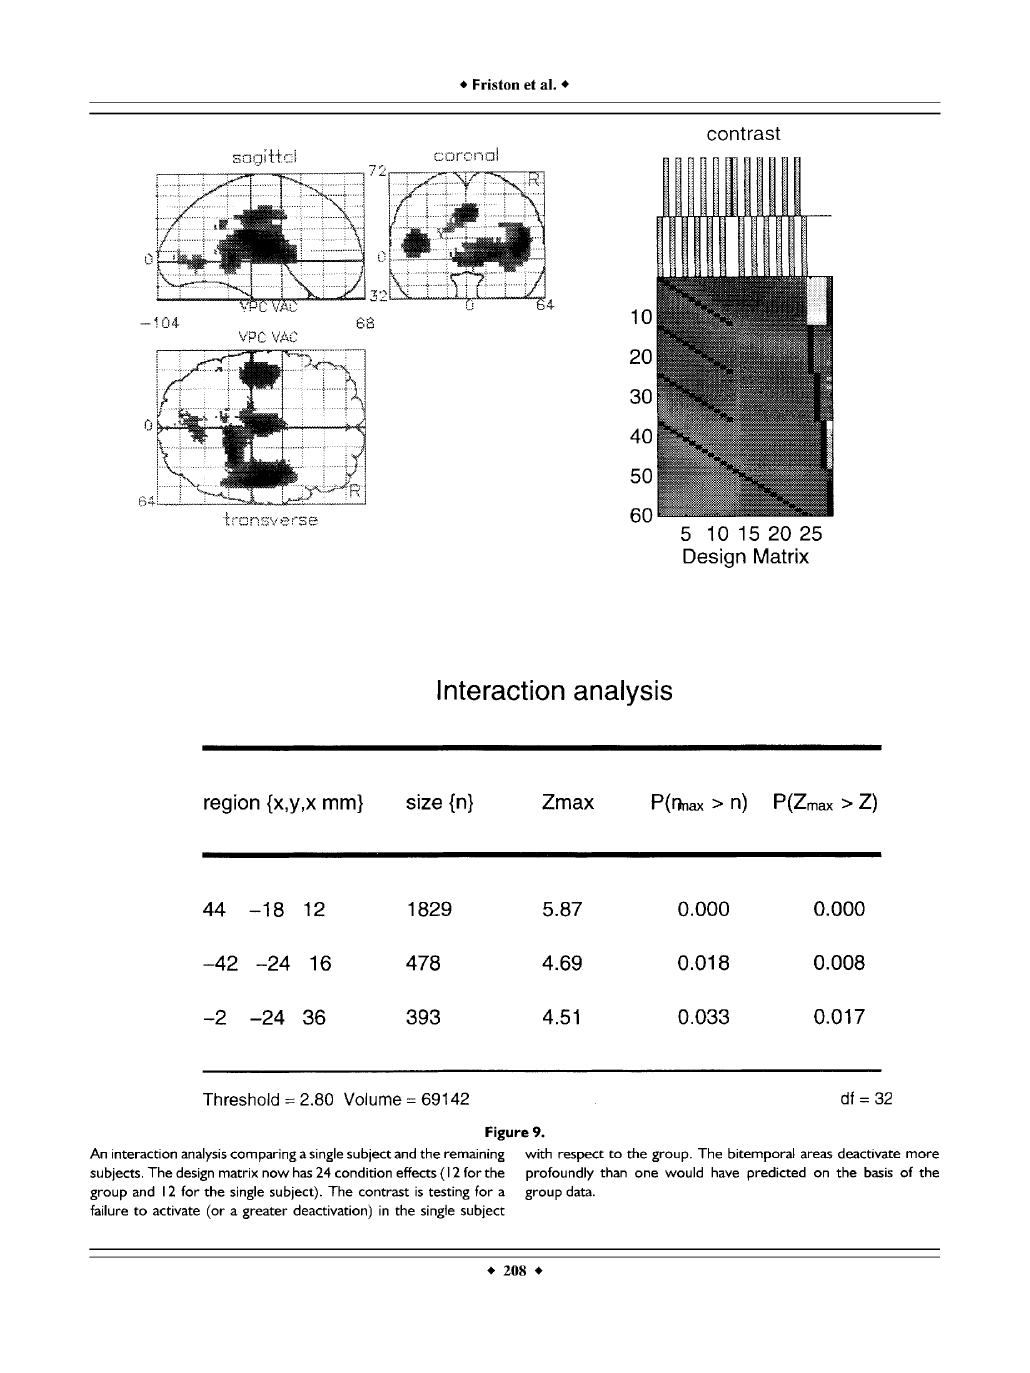Table: (202, 744, 881, 1072)
figure: (138, 147, 554, 525), (630, 127, 833, 567)
